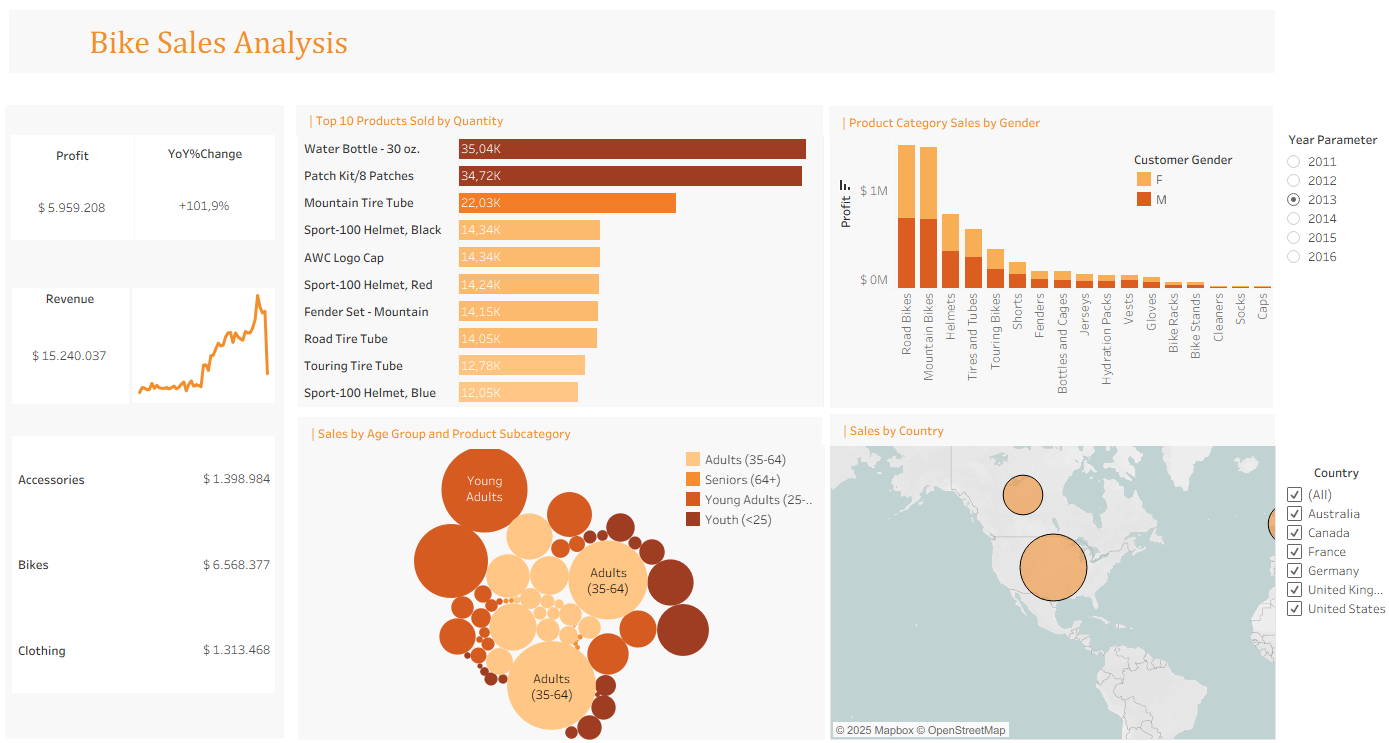

What the dashboard file says about the page in this screenshot:
{"tool":"tableau","page":{"name":"Sales Dashboard","canvas":[1400,750],"ordinal":0},"visuals":[{"type":"title","box":[8,8,1274,71]},{"type":"blank","box":[8,79,1274,663]},{"type":"text","box":[299.4,106.6,527.3,30.8]},{"type":"text","box":[831.5,107.9,444.9,32.1]},{"type":"parameter","param":"[Parameters].[Parameter 1]","box":[1284,133,104,176]},{"type":"worksheet","title":"Profit Card","mark":"Automatic","cols":["Calculation_2094736823305809922"],"box":[13.9,137.3,122.9,105.5]},{"type":"worksheet","title":"YoY % change","mark":"Automatic","cols":["Calculation_2094736823339782152"],"box":[138.4,137.3,140.1,105.5]},{"type":"worksheet","title":"Top 10 products","mark":"Bar","rows":["Product"],"box":[300.6,137.4,526.1,272.3]},{"type":"worksheet","title":"Sub Category Bar chart","mark":"Automatic","rows":["Profit"],"cols":["Sub_Category"],"box":[832.7,140,443.6,269.7]},{"type":"legend","title":"Sub Category Bar chart","param":"[federated.1dcfc5f1va2xt81g7wt76113xowm].[none:Customer_Gender:nk]","box":[1137,152.8,112.7,74.5]},{"type":"worksheet","title":"Revenue Card","mark":"Automatic","cols":["Calculation_2094736823340879881"],"box":[14.7,290.5,117.1,115.5]},{"type":"worksheet","title":"Revenue line chart","mark":"Automatic","rows":["Revenue"],"cols":["Date"],"box":[134.3,290.5,144.2,114.7]},{"type":"text","box":[832.7,416.1,444.9,32.1]},{"type":"text","box":[300.6,418.7,524.8,32.1]},{"type":"worksheet","title":"Cost Cards","mark":"Automatic","rows":["Product_Category"],"box":[14.7,437.8,263,257]},{"type":"worksheet","title":"Age group bubble chart","mark":"Circle","box":[300.6,446.9,527.3,295.4]},{"type":"worksheet","title":"Map","mark":"Automatic","box":[832.7,446.9,446.1,295.4]},{"type":"legend","title":"Age group bubble chart","param":"[federated.1dcfc5f1va2xt81g7wt76113xowm].[none:Age_Group:nk]","box":[686.1,450.8,134.5,129.7]},{"type":"filter","title":"Age group bubble chart","param":"[federated.1dcfc5f1va2xt81g7wt76113xowm].[none:Country:nk]","box":[1284,466,111,201]}]}

Visuals, with their boxes in screenshot pixels (x1, y1, x2, y2), scaled from the page's 1400x750 canvas onto the 1389x743 screenshot:
title: {"x1": 8, "y1": 8, "x2": 1272, "y2": 78}
blank: {"x1": 8, "y1": 78, "x2": 1272, "y2": 735}
text: {"x1": 297, "y1": 106, "x2": 820, "y2": 136}
text: {"x1": 825, "y1": 107, "x2": 1266, "y2": 139}
parameter: {"x1": 1274, "y1": 132, "x2": 1377, "y2": 306}
"Profit Card" worksheet: {"x1": 14, "y1": 136, "x2": 136, "y2": 241}
"YoY % change" worksheet: {"x1": 137, "y1": 136, "x2": 276, "y2": 241}
"Top 10 products" worksheet (Bar marks): {"x1": 298, "y1": 136, "x2": 820, "y2": 406}
"Sub Category Bar chart" worksheet: {"x1": 826, "y1": 139, "x2": 1266, "y2": 406}
"Sub Category Bar chart" legend: {"x1": 1128, "y1": 151, "x2": 1240, "y2": 225}
"Revenue Card" worksheet: {"x1": 15, "y1": 288, "x2": 131, "y2": 402}
"Revenue line chart" worksheet: {"x1": 133, "y1": 288, "x2": 276, "y2": 401}
text: {"x1": 826, "y1": 412, "x2": 1268, "y2": 444}
text: {"x1": 298, "y1": 415, "x2": 819, "y2": 447}
"Cost Cards" worksheet: {"x1": 15, "y1": 434, "x2": 276, "y2": 688}
"Age group bubble chart" worksheet (Circle marks): {"x1": 298, "y1": 443, "x2": 821, "y2": 735}
"Map" worksheet: {"x1": 826, "y1": 443, "x2": 1269, "y2": 735}
"Age group bubble chart" legend: {"x1": 681, "y1": 447, "x2": 814, "y2": 575}
"Age group bubble chart" filter: {"x1": 1274, "y1": 462, "x2": 1384, "y2": 661}
